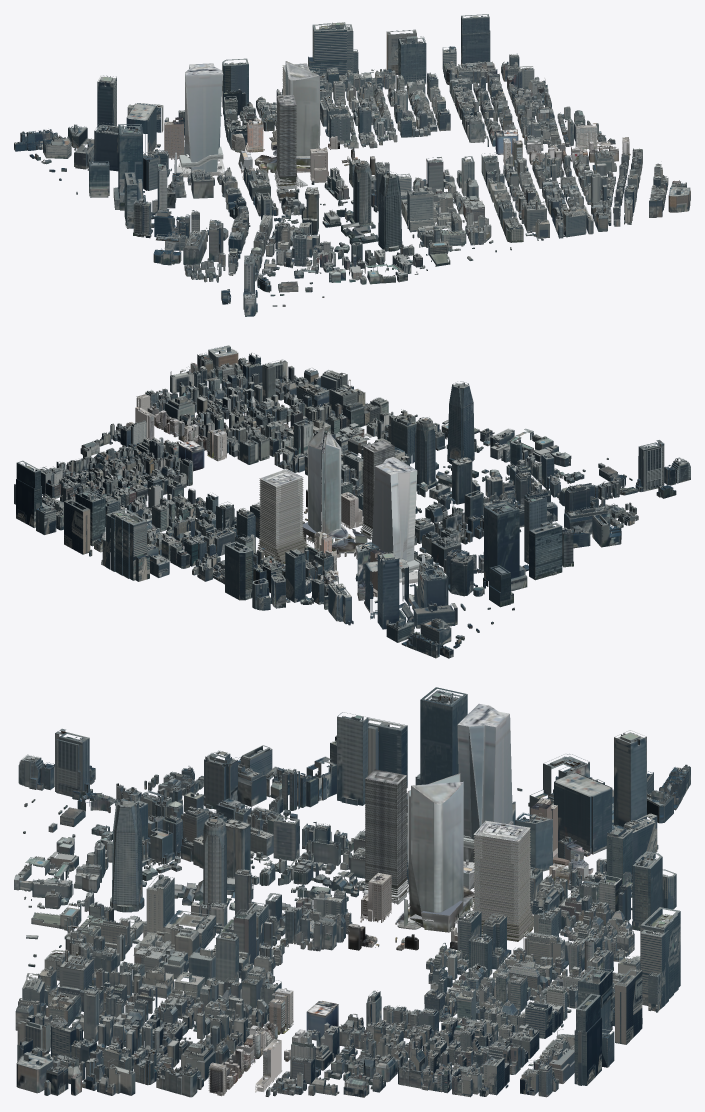
Rendered from tokyo_plateau.optimized.glb.
The picture shows the model from 3 angles, top to bottom: view 1: azimuth 30°, elevation 25°; view 2: azimuth 150°, elevation 25°; view 3: azimuth 270°, elevation 25°; orthographic projection. The views are drawn at different scales.
Parts seen in each view (by area): view 1: Plateau_Textured_9 (×2), Plateau_Textured_2, Plateau_Textured_25, Plateau_Textured_8, Plateau_Textured_21, Plateau_Textured_19, Plateau_Textured_4, Plateau_Textured_17 (×2), Plateau_Textured_28, Plateau_Textured_1, Plateau_Textured_23, Plateau_Textured_24 (+17 smaller); view 2: Plateau_Textured_8 (×2), Plateau_Textured_25, Plateau_Textured_2, Plateau_Textured_9, Plateau_Textured_26, Plateau_Textured_6, Plateau_Textured_21, Plateau_Textured_12, Plateau_Textured_4, Plateau_Textured_10, Plateau_Textured_20, Plateau_Textured_15 (+17 smaller); view 3: Plateau_Textured_8 (×2), Plateau_Textured_25, Plateau_Textured_12, Plateau_Textured_9 (×2), Plateau_Textured_17 (×2), Plateau_Textured_1, Plateau_Textured_10, Plateau_Textured_2, Plateau_Textured_6, Plateau_Textured_21, Plateau_Textured_16, Plateau_Textured_4 (+19 smaller).
Boxes of the visible parts, x1,y1,x2,y2 form: Plateau_Textured_9 (×2): (151, 63, 244, 197); Plateau_Textured_2: (308, 22, 426, 107); Plateau_Textured_25: (14, 75, 156, 180); Plateau_Textured_8: (227, 61, 326, 173); Plateau_Textured_21: (512, 172, 620, 240); Plateau_Textured_19: (322, 160, 433, 244); Plateau_Textured_4: (365, 72, 481, 137); Plateau_Textured_17 (×2): (274, 95, 375, 205); Plateau_Textured_28: (153, 219, 269, 279); Plateau_Textured_1: (449, 53, 549, 122); Plateau_Textured_23: (374, 171, 457, 275); Plateau_Textured_24: (275, 233, 407, 297); Plateau_Textured_8 (×2): (253, 426, 371, 578); Plateau_Textured_25: (365, 551, 493, 658); Plateau_Textured_2: (64, 489, 175, 581); Plateau_Textured_9: (341, 457, 466, 586); Plateau_Textured_26: (446, 501, 527, 610); Plateau_Textured_6: (225, 541, 330, 610); Plateau_Textured_21: (246, 363, 367, 426); Plateau_Textured_12: (170, 345, 287, 413); Plateau_Textured_4: (105, 477, 218, 539); Plateau_Textured_10: (73, 420, 181, 481); Plateau_Textured_20: (433, 457, 559, 527); Plateau_Textured_15: (200, 408, 330, 465); Plateau_Textured_8 (×2): (395, 773, 561, 941); Plateau_Textured_25: (529, 730, 690, 854); Plateau_Textured_12: (16, 1016, 160, 1095); Plateau_Textured_9 (×2): (457, 703, 569, 871); Plateau_Textured_17 (×2): (291, 769, 409, 938); Plateau_Textured_1: (419, 1020, 557, 1097); Plateau_Textured_10: (287, 1022, 425, 1097); Plateau_Textured_2: (546, 907, 680, 1044); Plateau_Textured_6: (552, 826, 676, 937); Plateau_Textured_21: (15, 949, 159, 1042); Plateau_Textured_16: (158, 902, 288, 984); Plateau_Textured_4: (418, 963, 562, 1042).
Size of what is drawn, in the model's own units: 1291 by 265 by 1126.
68 materials, 60 textured.
